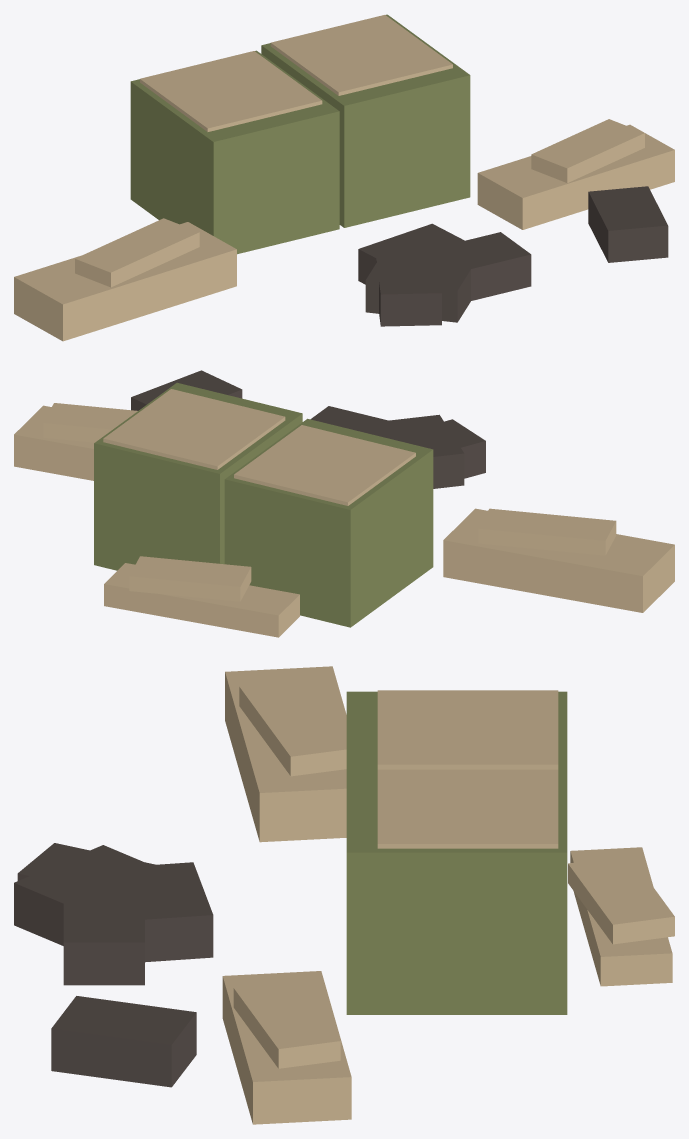
The model's file is SM_HescoCorto2_v4_Red_e2_MuyDanado_LOD1.fbx.
3 views of the same model, one above another, from view 1: azimuth 30°, elevation 25°; view 2: azimuth 150°, elevation 25°; view 3: azimuth 270°, elevation 25° (orthographic). The views are drawn at different scales.
Visible parts, largest first — view 1: SM_hesco_piezas_v78_LOD1; view 2: SM_hesco_piezas_v78_LOD1; view 3: SM_hesco_piezas_v78_LOD1.
Part boxes in pixels (x1,y1,x2,y2): SM_hesco_piezas_v78_LOD1: (14,14,674,341); SM_hesco_piezas_v78_LOD1: (14,370,674,637); SM_hesco_piezas_v78_LOD1: (14,666,674,1124).
Bounding box in the file's own units: 5.36 × 1.02 × 3.66.
